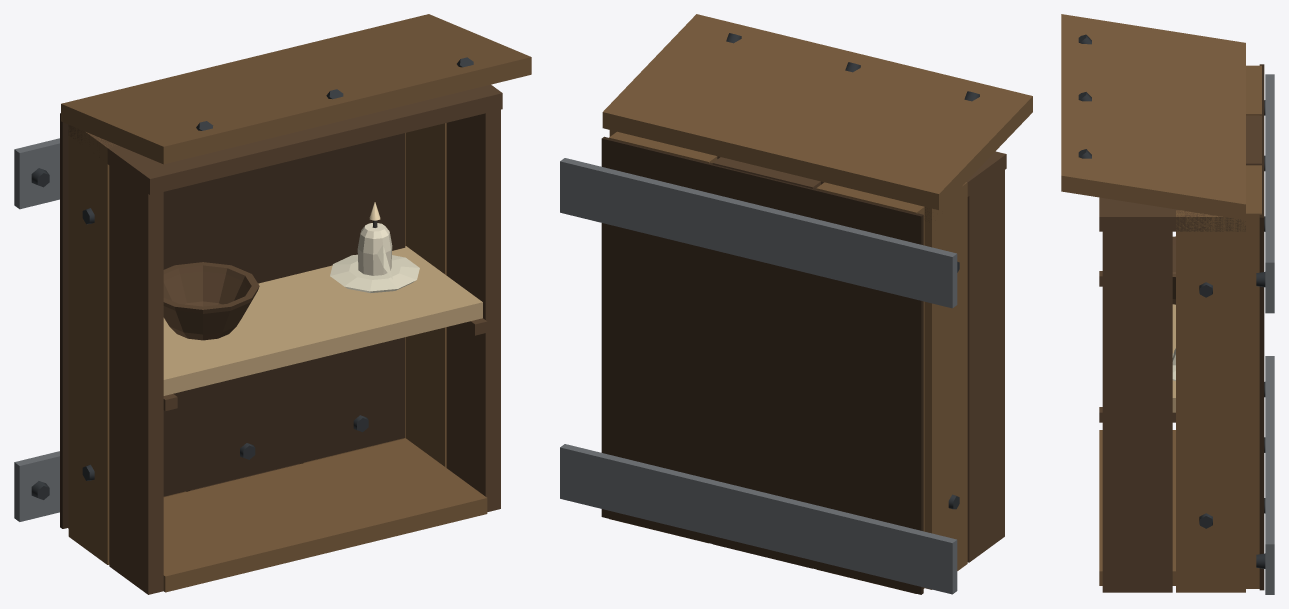
File: SM_LPD_Prison_CellFittingAumbry_01.fbx
3 views of the same model, side by side, from view 1: azimuth 30°, elevation 25°; view 2: azimuth 150°, elevation 25°; view 3: azimuth 270°, elevation 25° (orthographic). The views are drawn at different scales.
Parts seen in each view (by area): view 1: SM_LPD_Prison_CellFittingAumbry_01; view 2: SM_LPD_Prison_CellFittingAumbry_01; view 3: SM_LPD_Prison_CellFittingAumbry_01.
Part boxes in pixels (box(x1,y1,x2,y2)): SM_LPD_Prison_CellFittingAumbry_01: box(14, 14, 531, 594); SM_LPD_Prison_CellFittingAumbry_01: box(560, 14, 1032, 594); SM_LPD_Prison_CellFittingAumbry_01: box(1061, 14, 1274, 594).
Size of the model in its own units: 0.56 by 0.5842 by 0.268.
